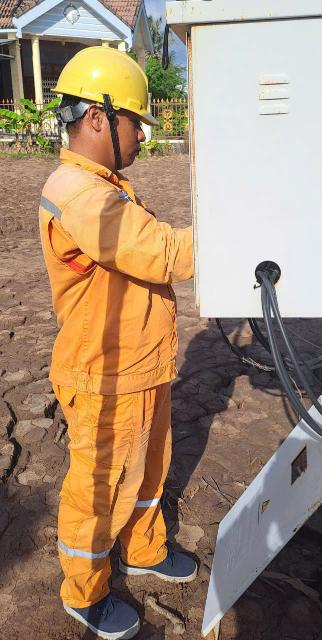helmet: (31, 19, 189, 140)
shoes: (62, 580, 154, 640), (110, 536, 205, 591)
